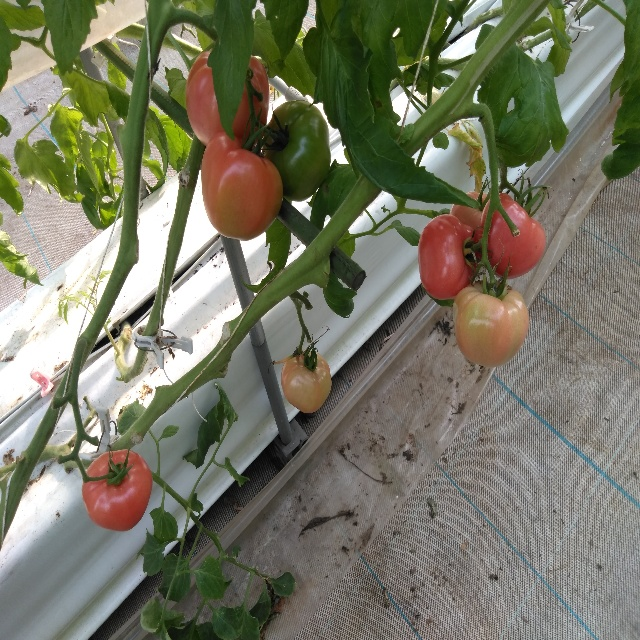b_fully_ripened: (83, 449, 152, 532), (481, 193, 544, 280), (418, 213, 478, 302)
b_green: (262, 100, 330, 202)
b_half_ripened: (201, 132, 283, 241), (186, 50, 271, 144), (452, 281, 531, 368), (281, 350, 332, 415)
